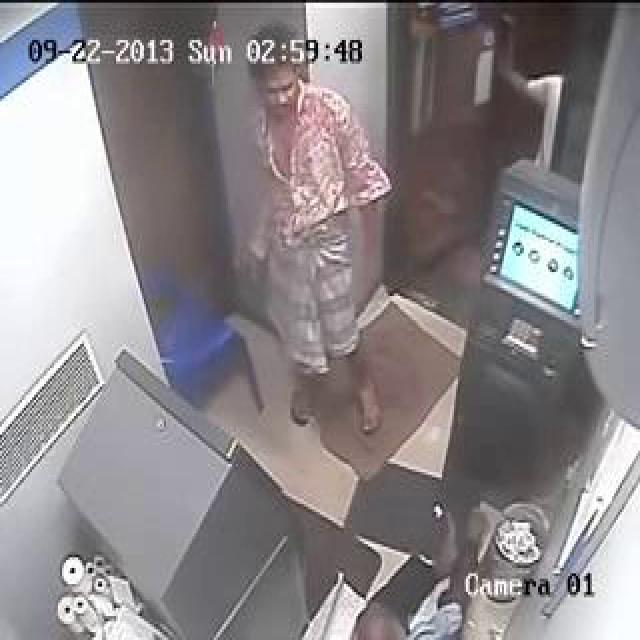shooting: (218, 23, 504, 640), (190, 22, 473, 550)
